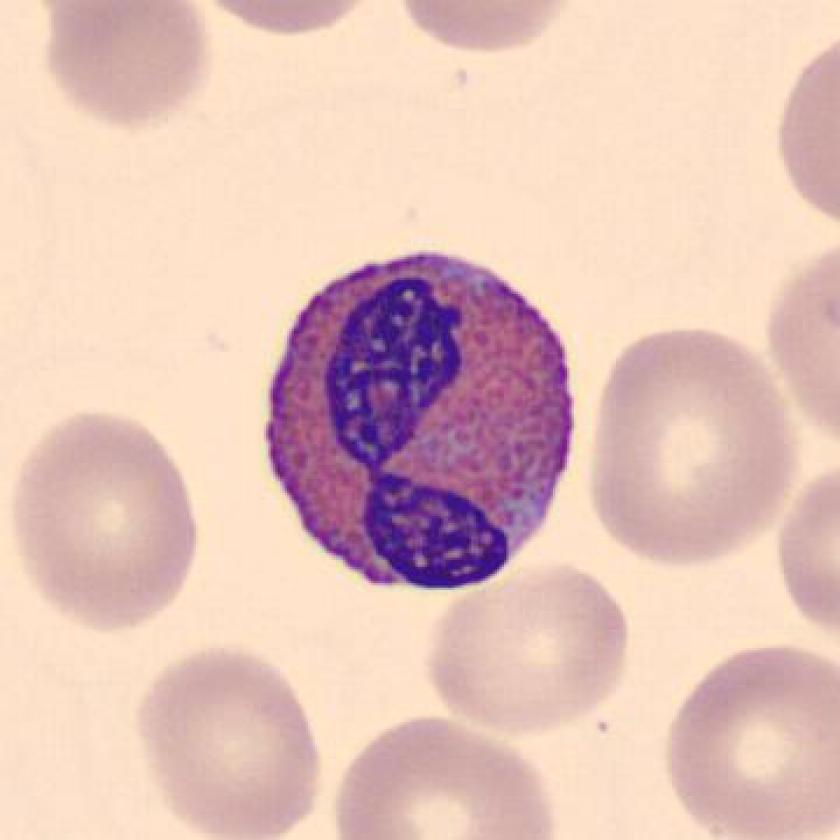eosinophil: (251, 232, 589, 612)
